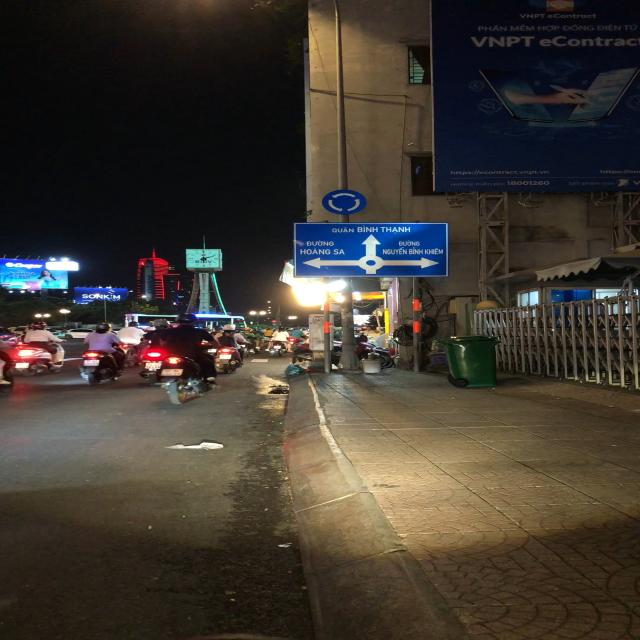Bien bao noi giao nhau chay theo vong xuyen: (319, 188, 370, 216)
